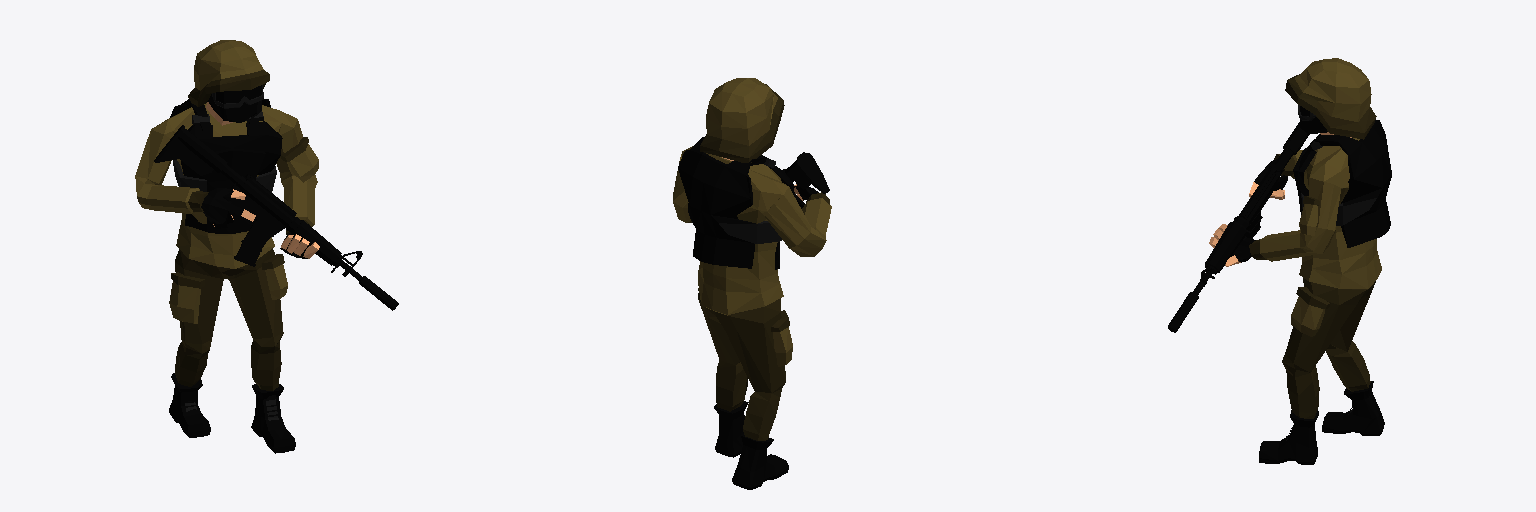
File: soldier.obj
The picture shows the model from 3 angles: view 1: azimuth 30°, elevation 25°; view 2: azimuth 150°, elevation 25°; view 3: azimuth 270°, elevation 25°; orthographic projection.
Parts seen in each view (by area): view 1: Soldat_Cylinder.001, M4_Cube.001, M4_Amo_Cube.007; view 2: Soldat_Cylinder.001, M4_Cube.001; view 3: Soldat_Cylinder.001, M4_Cube.001.
Part boxes in pixels (left/top/right/bottom): Soldat_Cylinder.001: left=135, top=40, right=319, bottom=453; M4_Cube.001: left=154, top=125, right=398, bottom=310; M4_Amo_Cube.007: left=234, top=225, right=271, bottom=266; Soldat_Cylinder.001: left=673, top=78, right=831, bottom=489; M4_Cube.001: left=783, top=152, right=829, bottom=208; Soldat_Cylinder.001: left=1209, top=58, right=1391, bottom=464; M4_Cube.001: left=1168, top=122, right=1309, bottom=332.
Size of the model in its own units: 15.36 by 31.96 by 16.81.